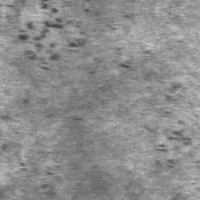rolled-in_scale: (142, 79, 198, 171), (13, 1, 84, 70)
